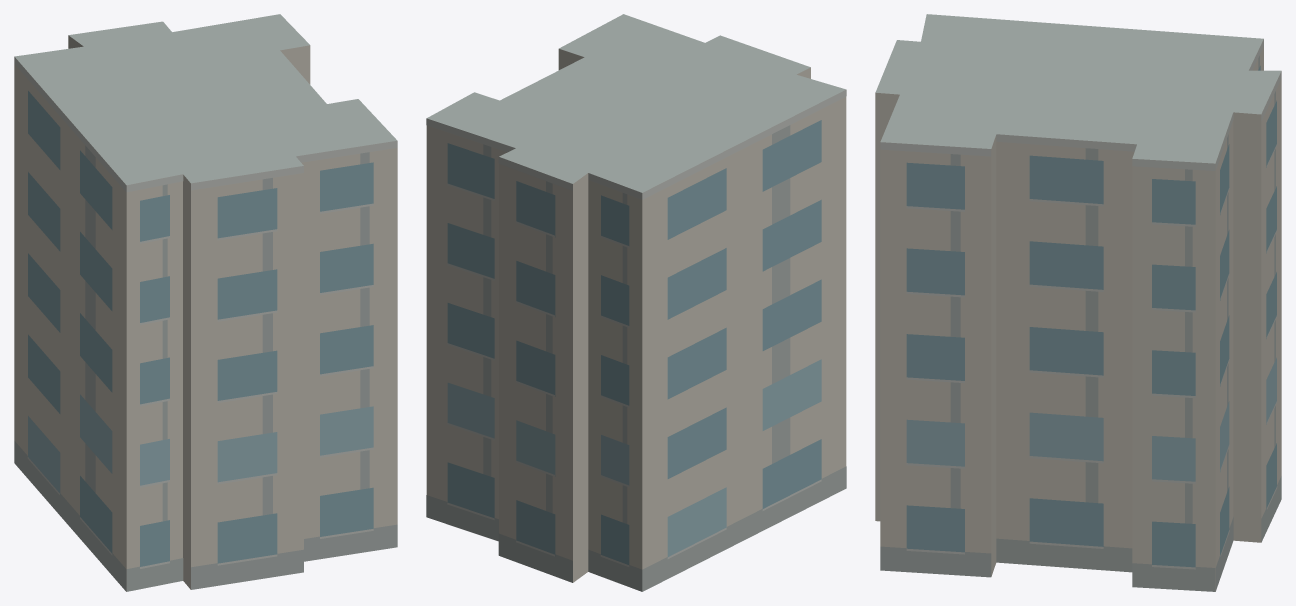
Rendered from survey-upis-32641787.glb.
3 views of the same model, side by side, from view 1: azimuth 30°, elevation 25°; view 2: azimuth 150°, elevation 25°; view 3: azimuth 270°, elevation 25° (orthographic). The views are drawn at different scales.
Visible parts, largest first — view 1: survey-upis-32641787.tmp; view 2: survey-upis-32641787.tmp; view 3: survey-upis-32641787.tmp.
Part boxes in pixels (x1=…): survey-upis-32641787.tmp: x1=14, y1=14, x2=397, y2=591; survey-upis-32641787.tmp: x1=426, y1=14, x2=846, y2=591; survey-upis-32641787.tmp: x1=875, y1=14, x2=1281, y2=591.
Bounding box in the file's own units: 10.42 × 13.9 × 11.96.
